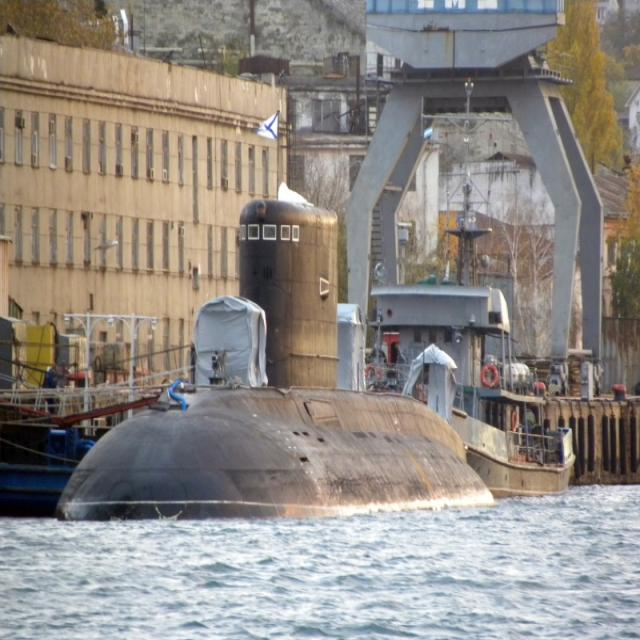submarine: (58, 204, 486, 524)
